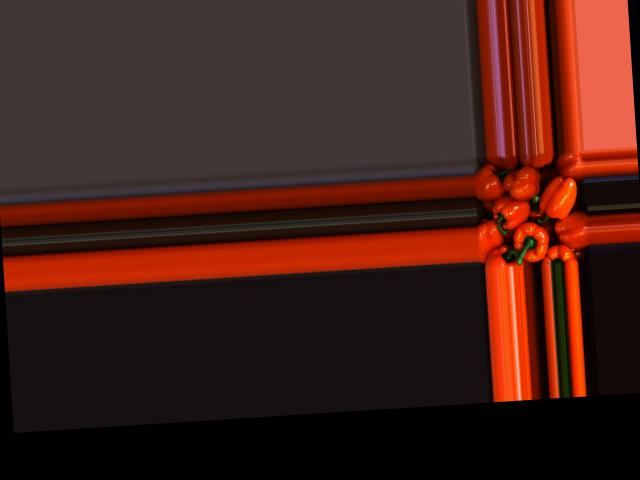bell_pepper: (483, 153, 527, 180)
